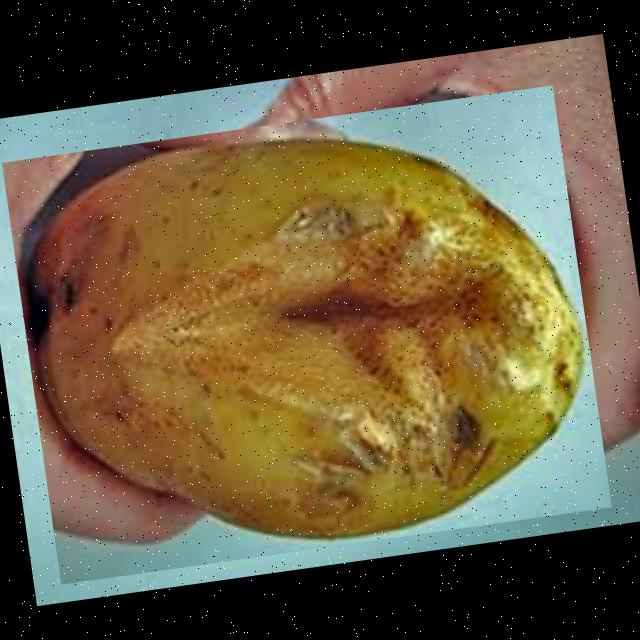Damaged potato: (2, 86, 612, 584)
